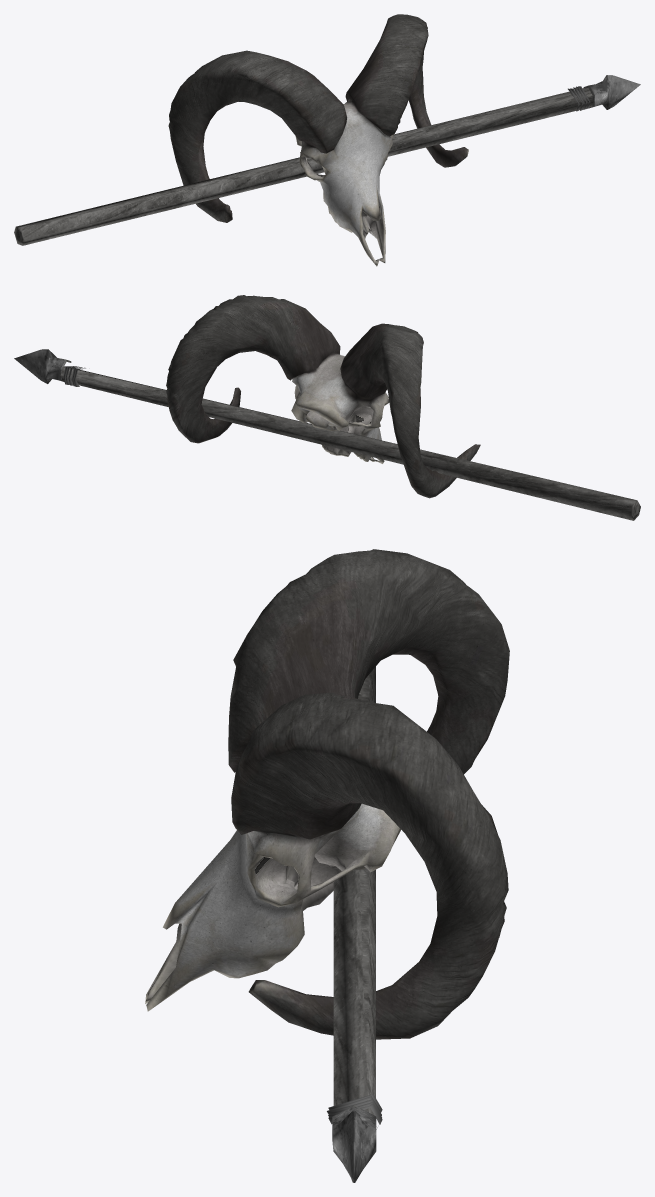
Rendered from topping_2.glb.
3 renders of one model, top to bottom at view 1: azimuth 30°, elevation 25°; view 2: azimuth 150°, elevation 25°; view 3: azimuth 270°, elevation 25°, orthographic. The views are drawn at different scales.
Parts seen in each view (by area): view 1: palka_2; view 2: palka_2; view 3: palka_2.
Part boxes in pixels (x1=…): palka_2: x1=14, y1=14, x2=640, y2=266; palka_2: x1=14, y1=295, x2=640, y2=520; palka_2: x1=145, y1=549, x2=509, y2=1182.
Bounding box in the file's own units: 81.77 × 23.72 × 20.79.
4 materials, 3 textured.
